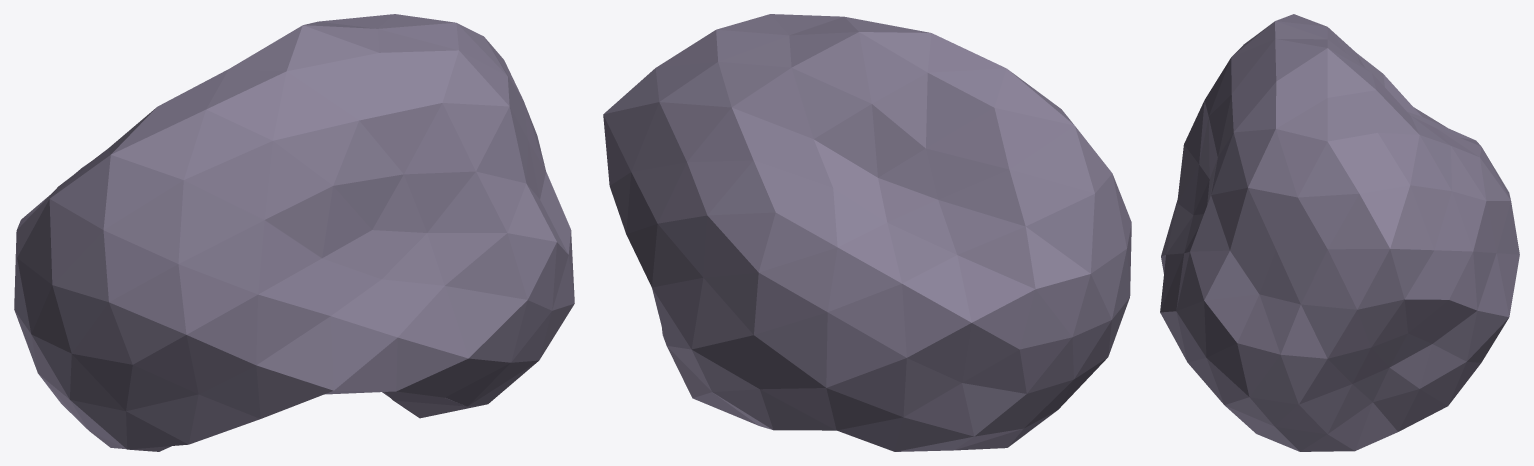
The model's file is asteroid_a_far.glb.
The picture shows the model from 3 angles, left to right: view 1: azimuth 30°, elevation 25°; view 2: azimuth 150°, elevation 25°; view 3: azimuth 270°, elevation 25°; orthographic projection. The views are drawn at different scales.
Visible parts, largest first — view 1: asteroid_a_far; view 2: asteroid_a_far; view 3: asteroid_a_far.
Boxes of the visible parts, box(x1,y1,x2,y2) form: asteroid_a_far: box(14, 14, 574, 451); asteroid_a_far: box(603, 14, 1131, 451); asteroid_a_far: box(1160, 14, 1519, 451).
Bounding box in the file's own units: 12.42 × 9.06 × 8.69.
